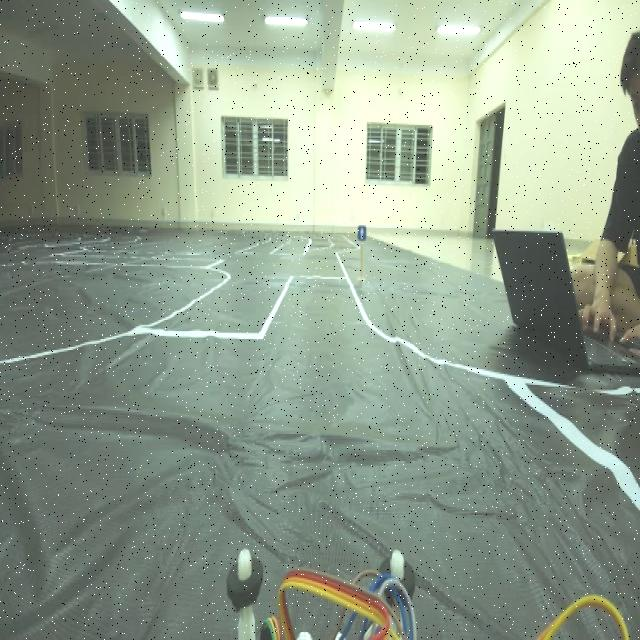onewayroad: (354, 217, 371, 250)
